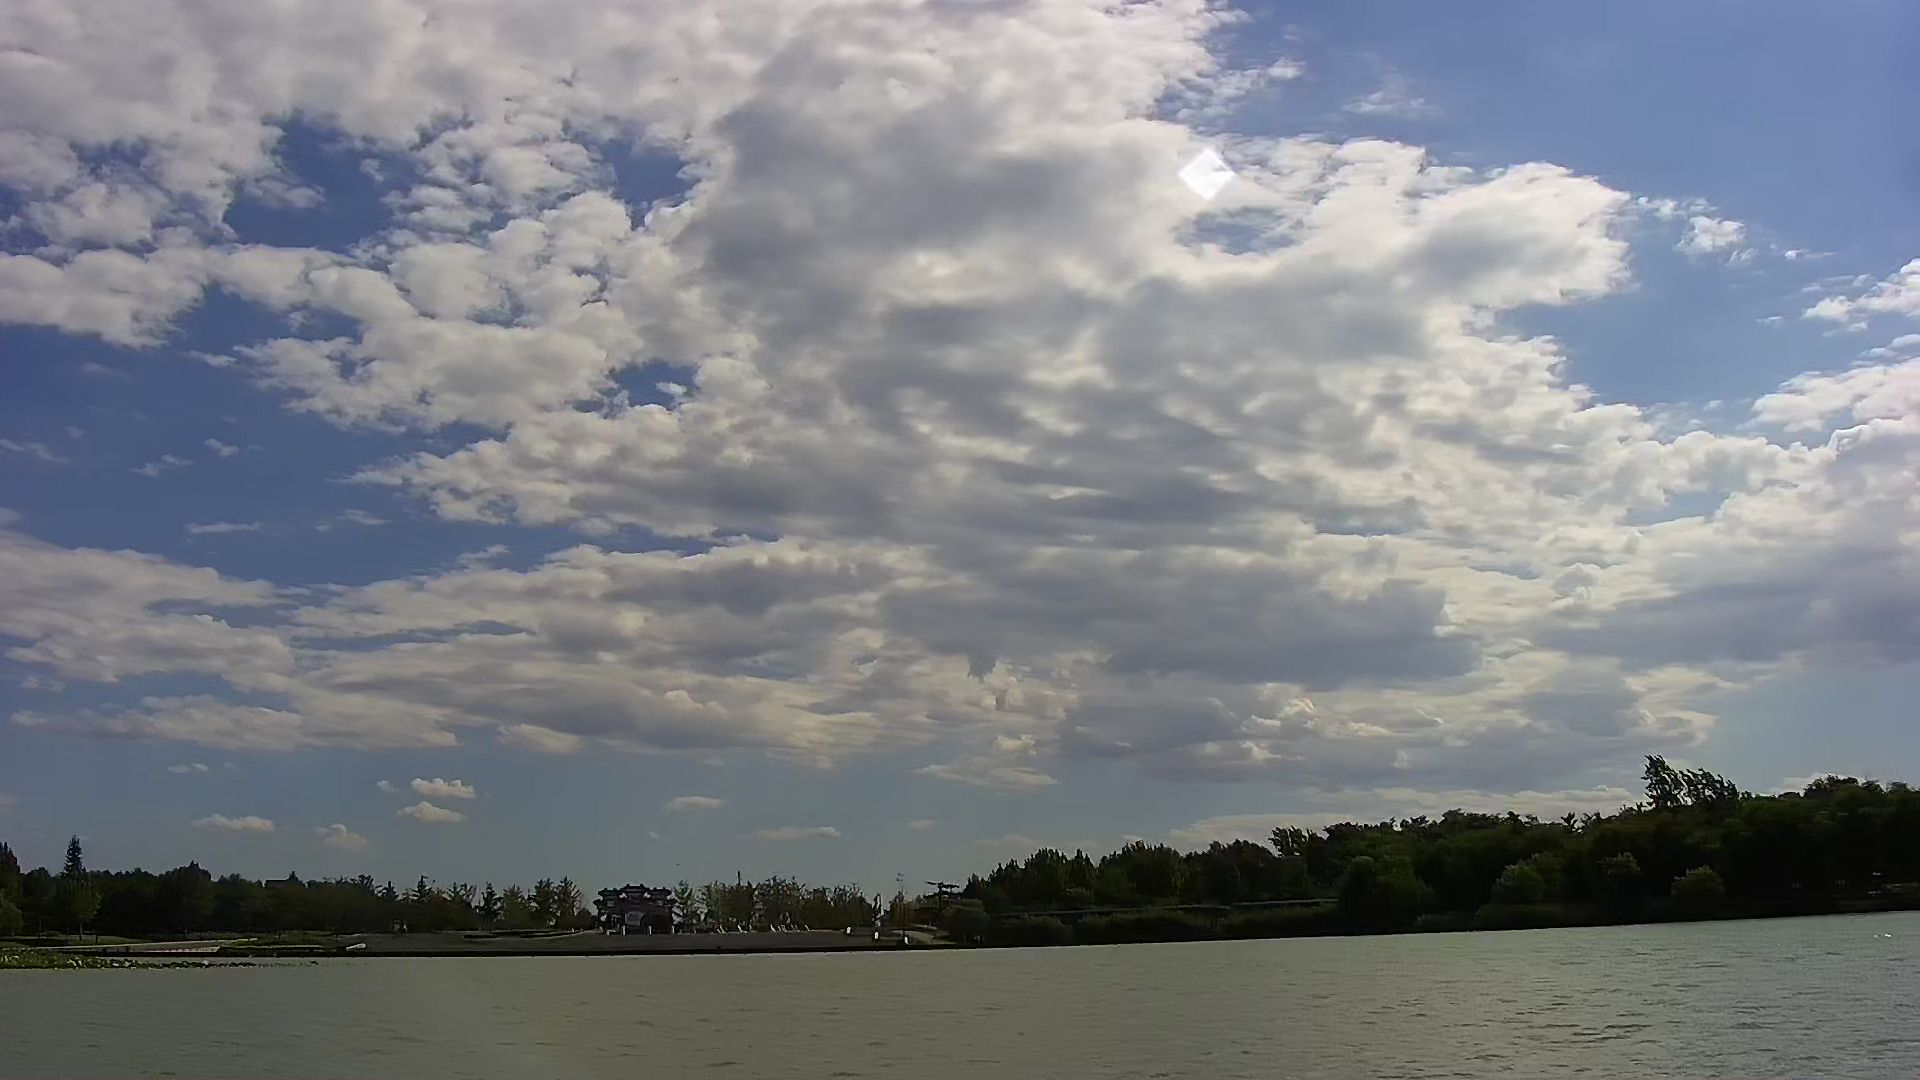harbor: (328, 914, 963, 961)
